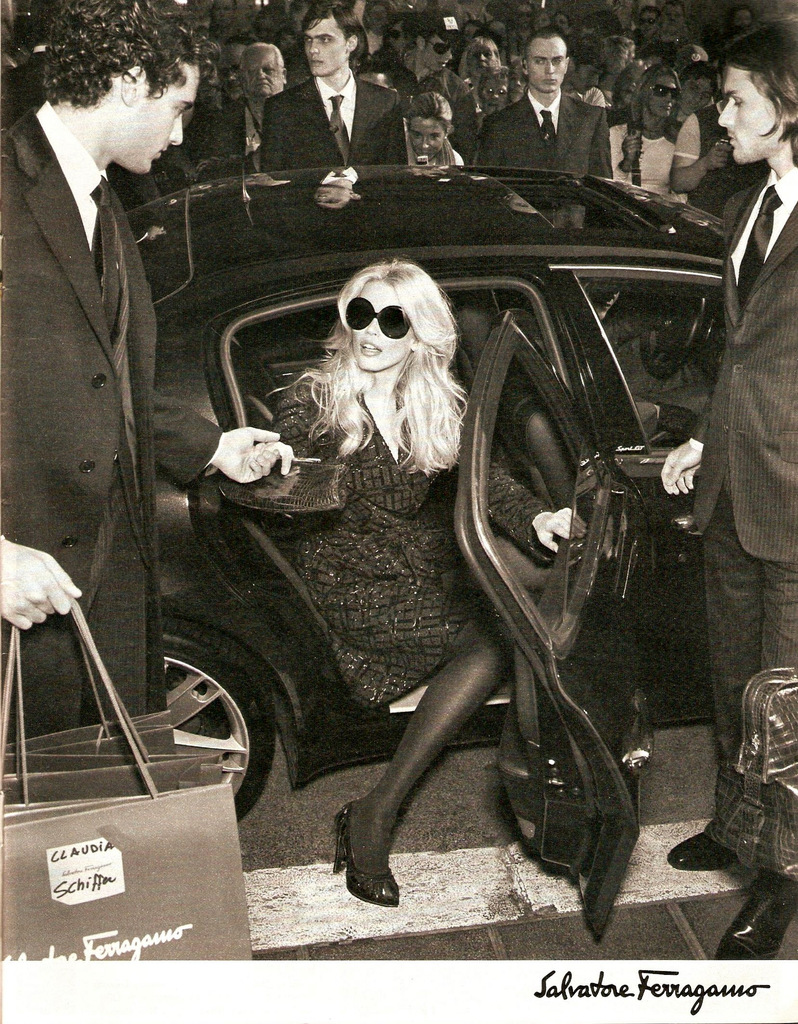Car: (167, 165, 720, 944)
